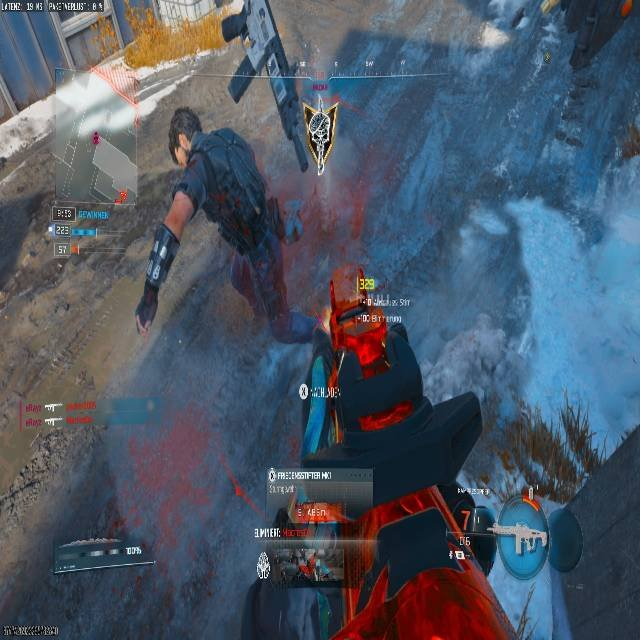head: (334, 301, 389, 369), (168, 107, 204, 162)
player: (266, 304, 583, 639), (131, 107, 275, 335)
